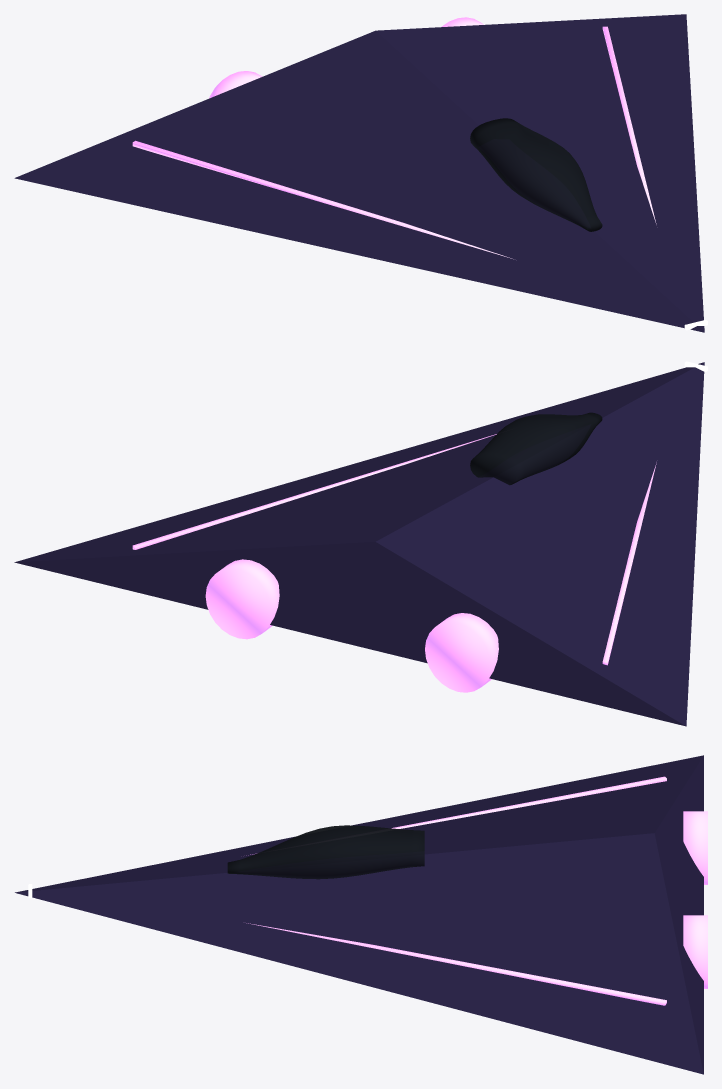
Rendered from void-skimmer.glb.
3 views of the same model, one above another, from view 1: azimuth 30°, elevation 25°; view 2: azimuth 150°, elevation 25°; view 3: azimuth 270°, elevation 25° (orthographic). The views are drawn at different scales.
Parts seen in each view (by area): view 1: Body; view 2: Body; view 3: Body.
Boxes of the visible parts, left/top/right/bottom form: Body: left=14, top=14, right=707, bottom=332; Body: left=14, top=361, right=707, bottom=726; Body: left=15, top=755, right=707, bottom=1074.
Size of the model in its own units: 9.2 by 1.51 by 8.45.
